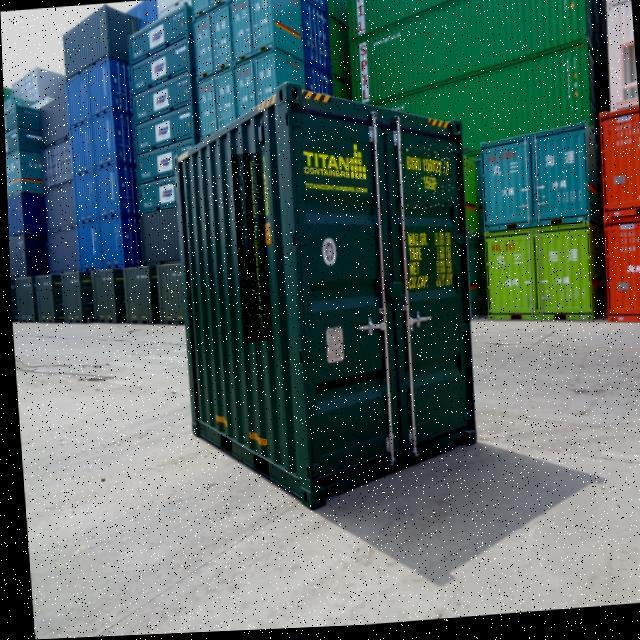container_number_h: (394, 146, 459, 214)
container_number_v: (229, 154, 270, 344)
